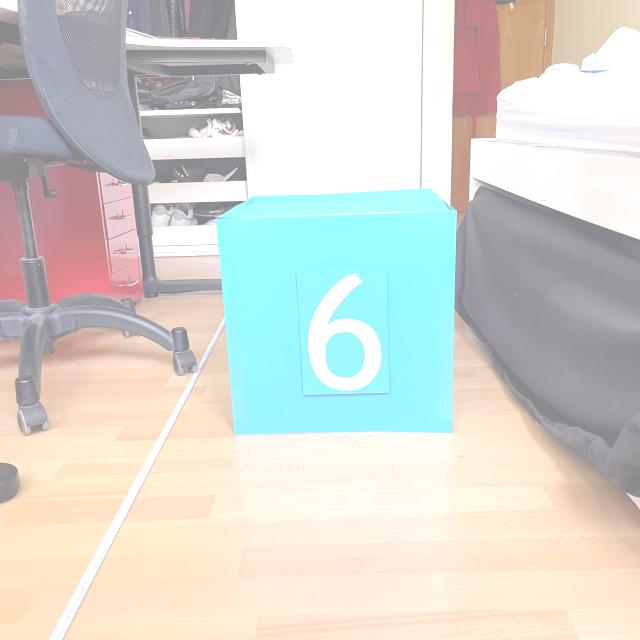box: (211, 185, 460, 438)
